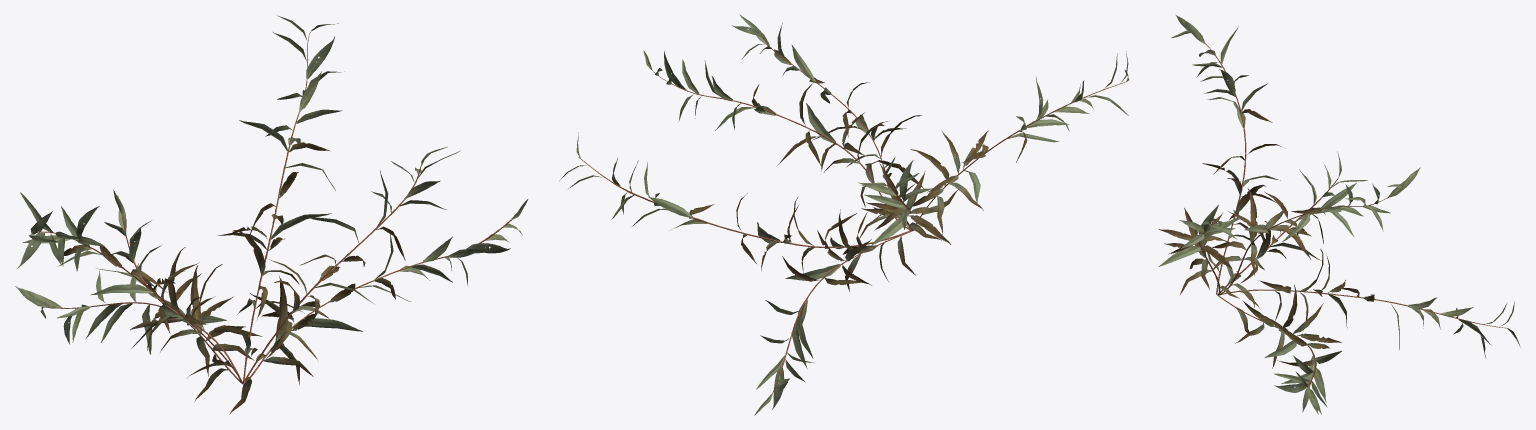
Rendered from shrub_02_c_LOD1.glb.
3 renders of one model, left to right at view 1: azimuth 30°, elevation 25°; view 2: azimuth 150°, elevation 25°; view 3: azimuth 270°, elevation 25°, orthographic. The views are drawn at different scales.
Parts seen in each view (by area): view 1: shrub_02_c_LOD1__lod0; view 2: shrub_02_c_LOD1__lod0; view 3: shrub_02_c_LOD1__lod0.
Boxes of the visible parts, bbox=[...] form: shrub_02_c_LOD1__lod0: bbox=[15, 15, 528, 414]; shrub_02_c_LOD1__lod0: bbox=[559, 14, 1129, 415]; shrub_02_c_LOD1__lod0: bbox=[1158, 14, 1520, 414].
Size of what is drawn, in the model's own units: 1.77 by 0.948 by 1.19.
1 material, 1 textured.
